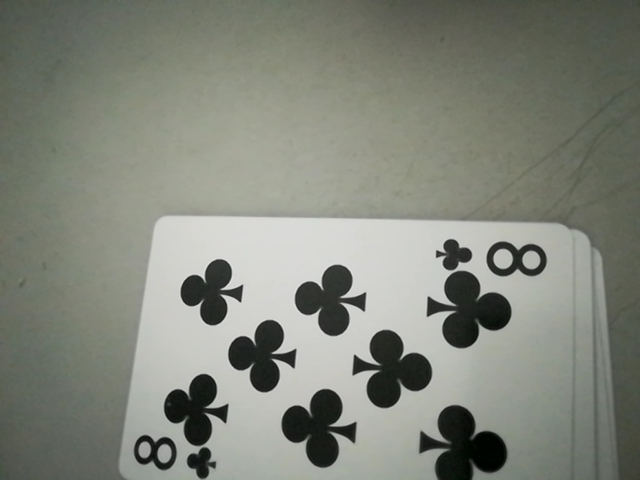mh 8: (434, 233, 552, 281), (128, 432, 213, 480)
